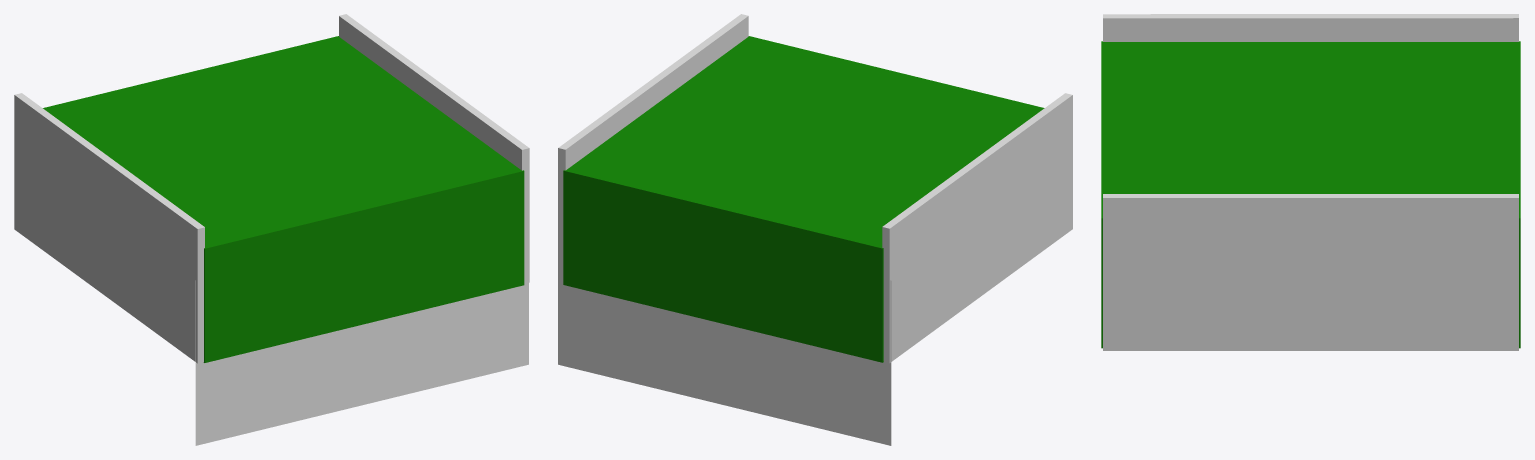
The model's file is raised.glb.
3 renders of one model, left to right at view 1: azimuth 30°, elevation 25°; view 2: azimuth 150°, elevation 25°; view 3: azimuth 270°, elevation 25°, orthographic. The views are drawn at different scales.
Parts seen in each view (by area): view 1: Cube, obj_snap, Cube.001, Cube.002; view 2: Cube, obj_snap.001, Cube.001, Cube.002; view 3: Cube.002, Cube, Cube.001.
Part boxes in pixels (left/top/right/bottom): Cube: left=43, top=36, right=524, bottom=362; obj_snap: left=195, top=280, right=528, bottom=445; Cube.001: left=14, top=93, right=204, bottom=363; Cube.002: left=339, top=14, right=529, bottom=283; Cube: left=563, top=36, right=1044, bottom=362; obj_snap.001: left=558, top=280, right=891, bottom=445; Cube.001: left=882, top=93, right=1072, bottom=363; Cube.002: left=558, top=14, right=748, bottom=283; Cube.002: left=1103, top=194, right=1518, bottom=350; Cube: left=1101, top=41, right=1520, bottom=348; Cube.001: left=1103, top=14, right=1518, bottom=41.
Size of the model in its own units: 4.21 by 2.63 by 4.04.
